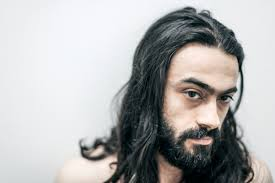middle_eastern_male: (160, 36, 243, 147)
